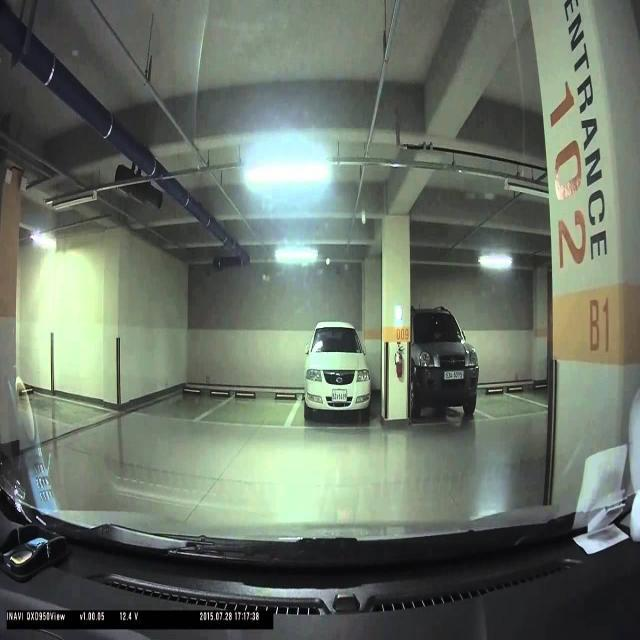empty: (224, 366, 294, 432), (150, 380, 220, 428), (476, 370, 548, 412)
occupied: (405, 302, 475, 415), (303, 320, 370, 420)
